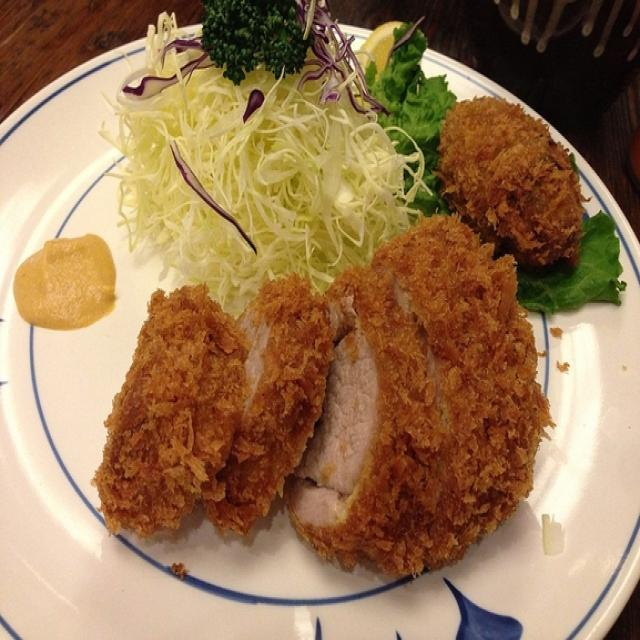牛肉菜式: (35, 50, 609, 605)
